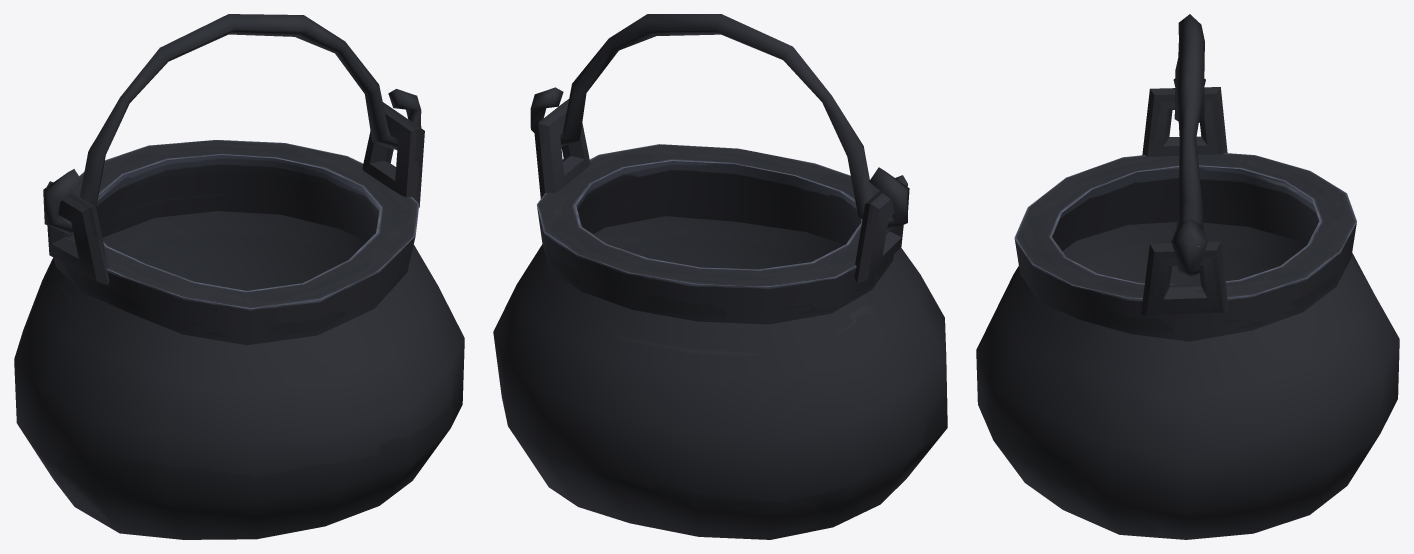
Rendered from SM_PROP_cookingpot_interior_01.fbx.
3 renders of one model, left to right at view 1: azimuth 30°, elevation 25°; view 2: azimuth 150°, elevation 25°; view 3: azimuth 270°, elevation 25°, orthographic. The views are drawn at different scales.
Visible parts, largest first — view 1: SM_PROP_cookingpot_interior_01, SM_PROP_cookingpot_handle_interior_01; view 2: SM_PROP_cookingpot_interior_01, SM_PROP_cookingpot_handle_interior_01; view 3: SM_PROP_cookingpot_interior_01, SM_PROP_cookingpot_handle_interior_01.
Part boxes in pixels (box(x1,y1,x2,y2)): SM_PROP_cookingpot_interior_01: box(14, 102, 464, 539); SM_PROP_cookingpot_handle_interior_01: box(43, 14, 421, 234); SM_PROP_cookingpot_interior_01: box(493, 99, 947, 539); SM_PROP_cookingpot_handle_interior_01: box(530, 14, 909, 231); SM_PROP_cookingpot_interior_01: box(976, 87, 1399, 539); SM_PROP_cookingpot_handle_interior_01: box(1171, 14, 1208, 278).
Size of the model in its own units: 50.55 by 57.18 by 48.57.
